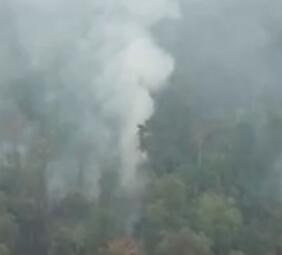smoke: (0, 1, 180, 209)
